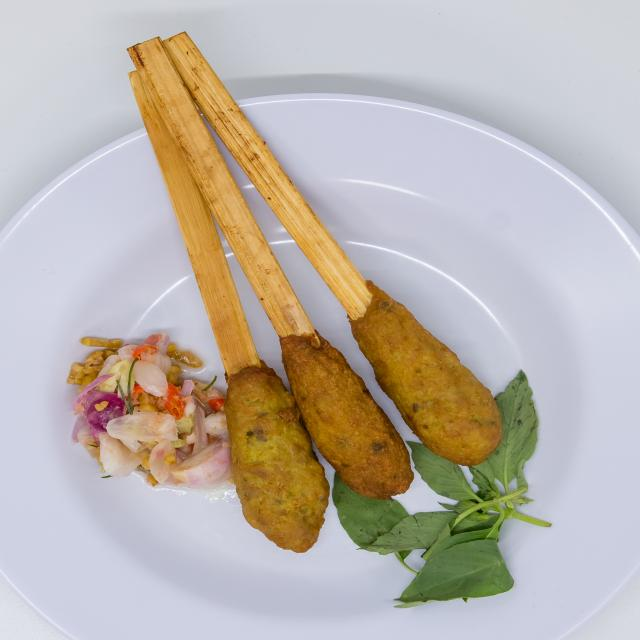Sate-Lilit: (106, 17, 551, 601)
